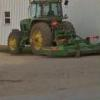Tractor: (6, 2, 94, 64)
